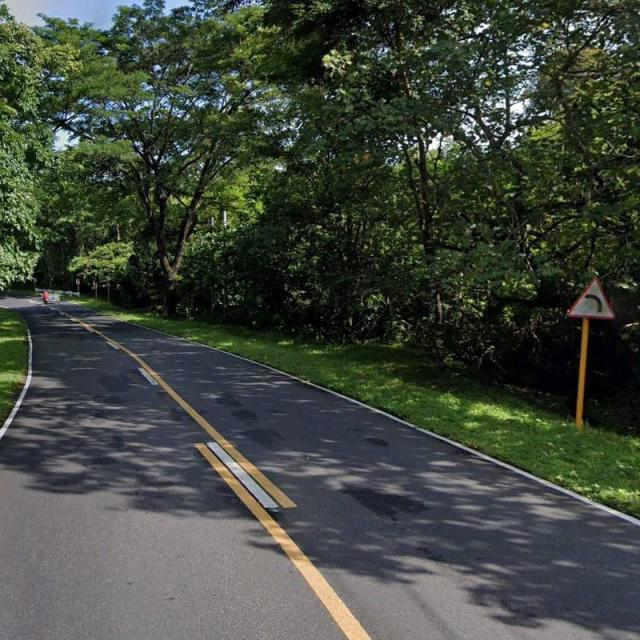warn_left_curve: (569, 278, 614, 319)
